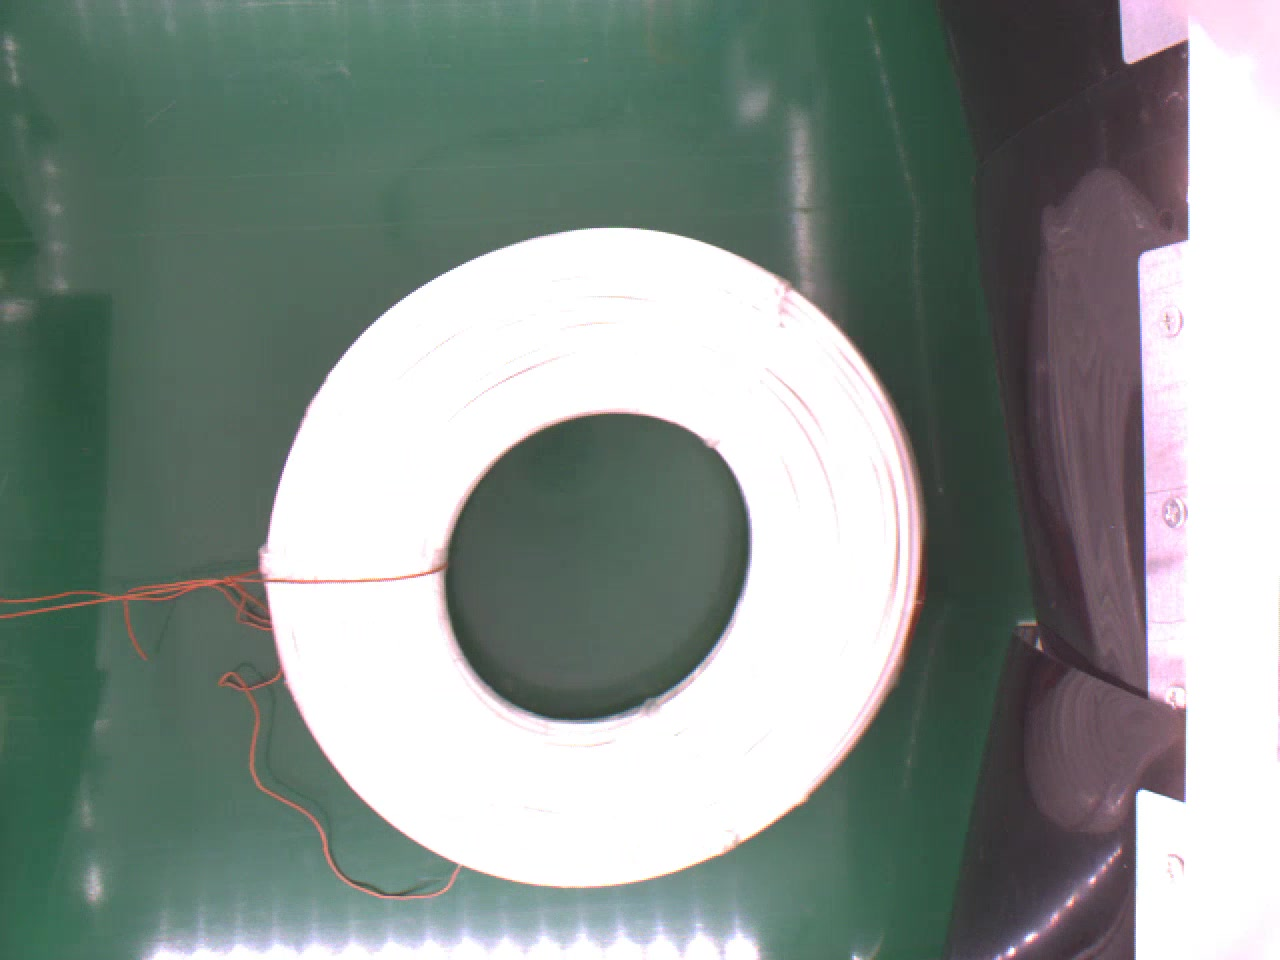white: (254, 221, 927, 892)
